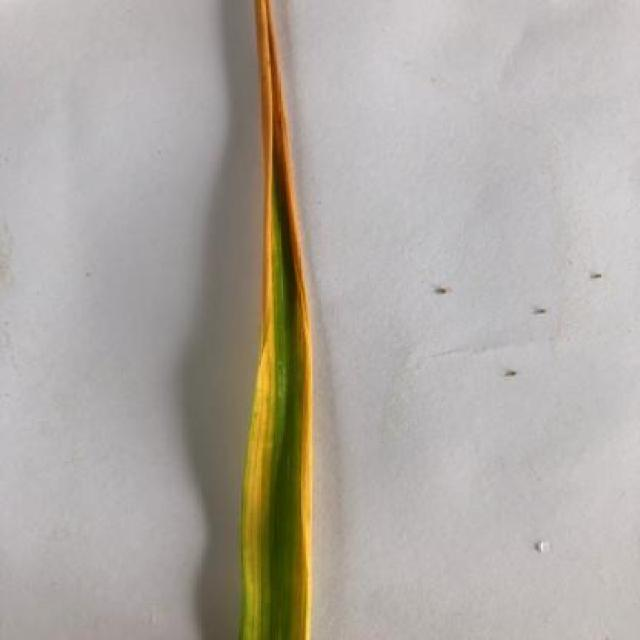Rice False Smut: (240, 0, 312, 639)
